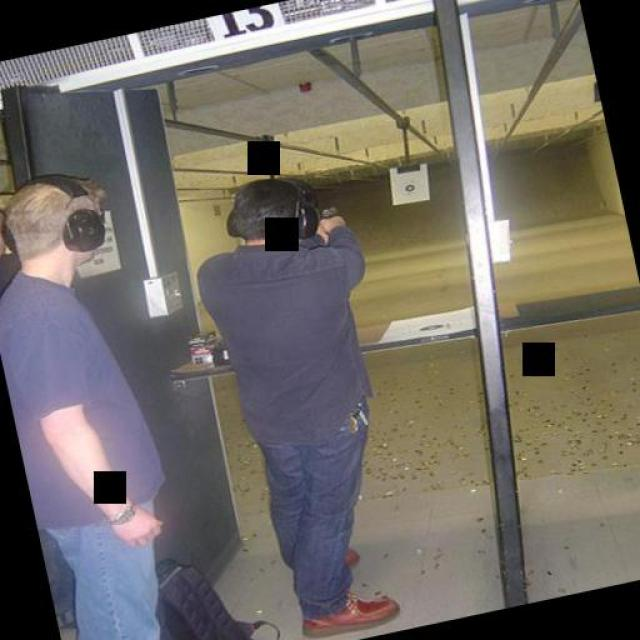gun: (314, 200, 338, 225)
